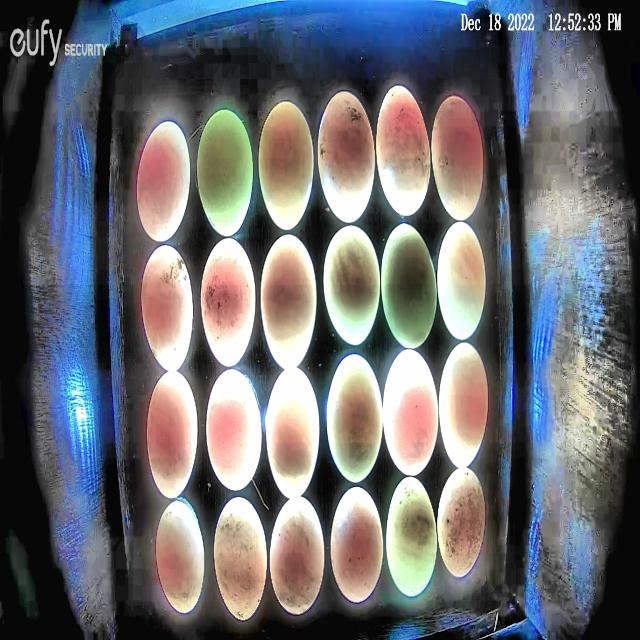UF: (260, 233, 318, 371), (317, 91, 377, 223), (326, 354, 384, 484), (382, 348, 440, 478), (196, 109, 254, 238), (380, 222, 438, 350), (375, 84, 431, 216), (200, 236, 256, 368), (258, 101, 314, 231), (265, 367, 320, 499), (212, 494, 268, 622), (323, 225, 381, 347), (205, 367, 262, 491), (146, 369, 200, 499), (140, 243, 193, 372), (431, 93, 484, 221), (136, 120, 190, 244), (438, 340, 489, 470), (384, 475, 438, 597), (269, 496, 324, 615), (329, 486, 384, 604), (436, 220, 486, 342), (155, 498, 206, 615), (436, 466, 486, 580)
